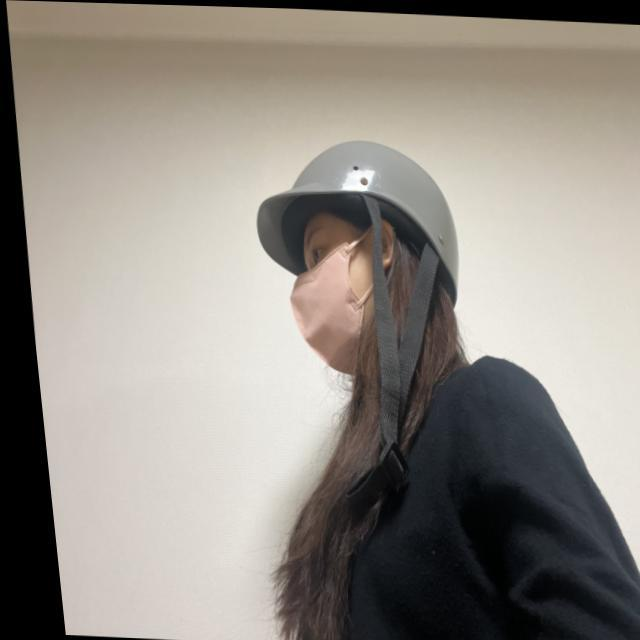Helmet: (250, 129, 470, 390)
